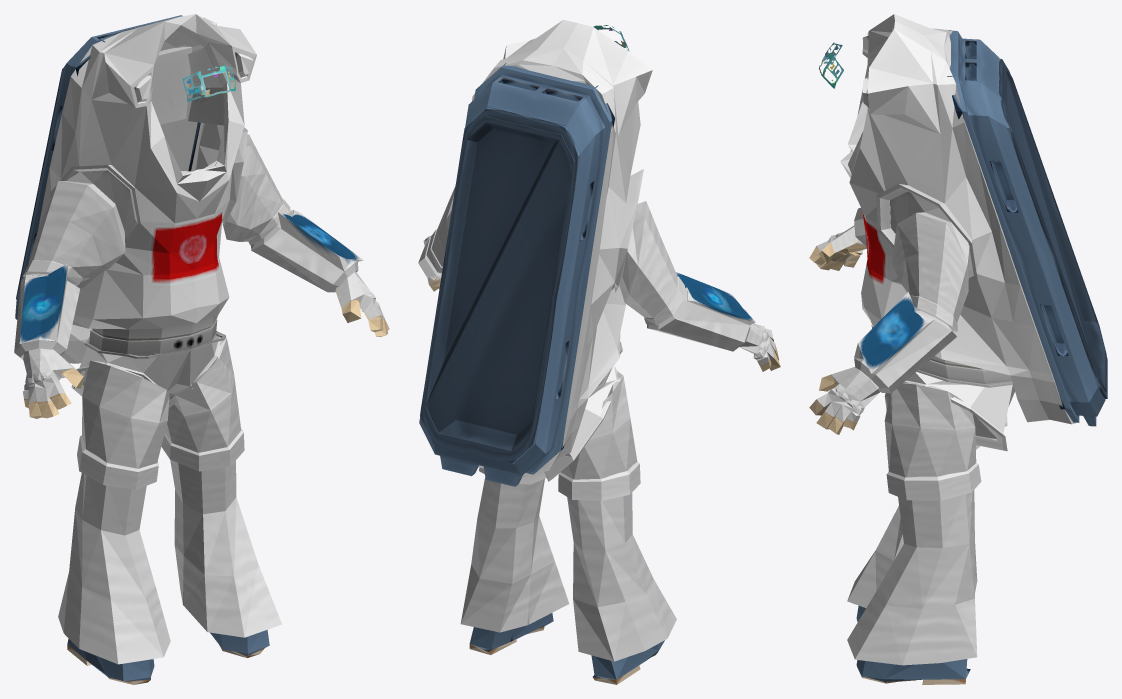
Rendered from mhw_grinsegold_mars_suit.glb.
The picture shows the model from 3 angles, left to right: view 1: azimuth 30°, elevation 25°; view 2: azimuth 150°, elevation 25°; view 3: azimuth 270°, elevation 25°; orthographic projection. The views are drawn at different scales.
Parts seen in each view (by area): view 1: mhw_grinsegold_mars_suit; view 2: mhw_grinsegold_mars_suit; view 3: mhw_grinsegold_mars_suit.
Boxes of the visible parts, x1,y1,x2,y2 form: mhw_grinsegold_mars_suit: (14, 14, 389, 684); mhw_grinsegold_mars_suit: (418, 20, 780, 684); mhw_grinsegold_mars_suit: (809, 14, 1107, 684).
Size of the model in its own units: 1.25 by 2.13 by 0.917.
Materials: 1 (1 with a texture image).
